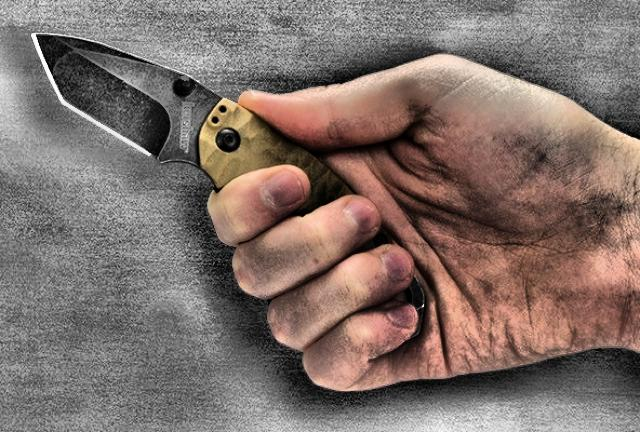knife: (21, 17, 413, 285)
